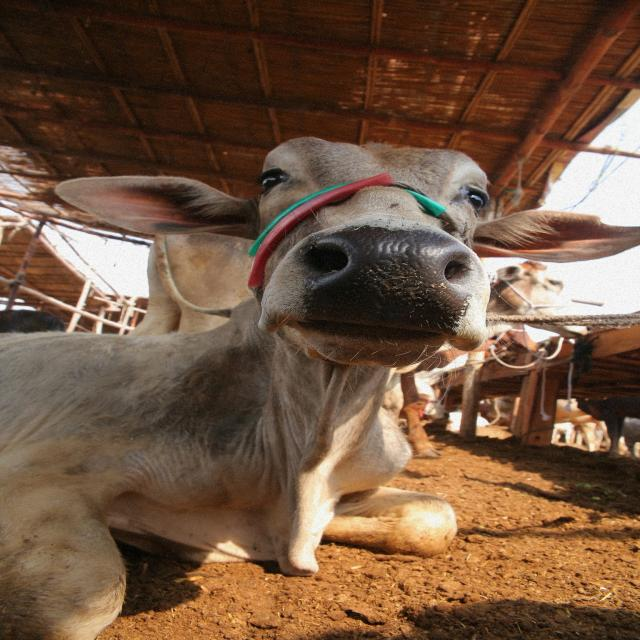muzzles: (300, 226, 482, 335)
